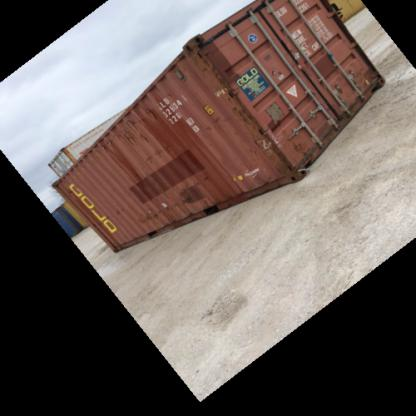Damage: (192, 50, 261, 130), (116, 114, 167, 151), (130, 197, 170, 221), (342, 61, 375, 90), (176, 180, 215, 204)
